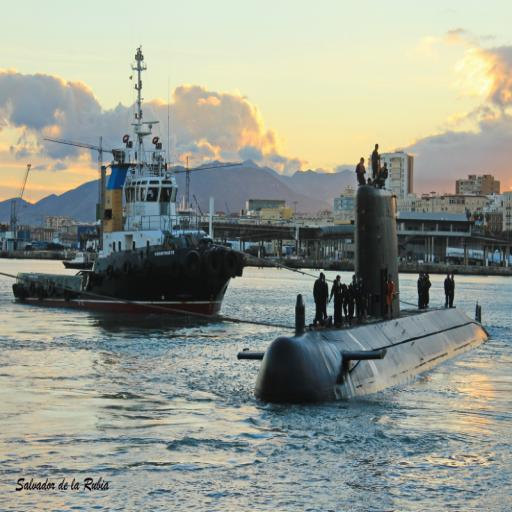submarine: (235, 184, 489, 409)
